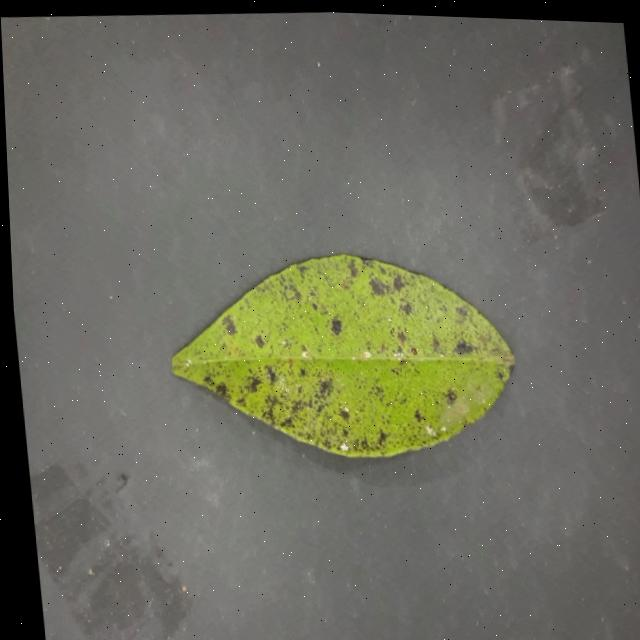greasy_spot: (171, 254, 513, 457)
